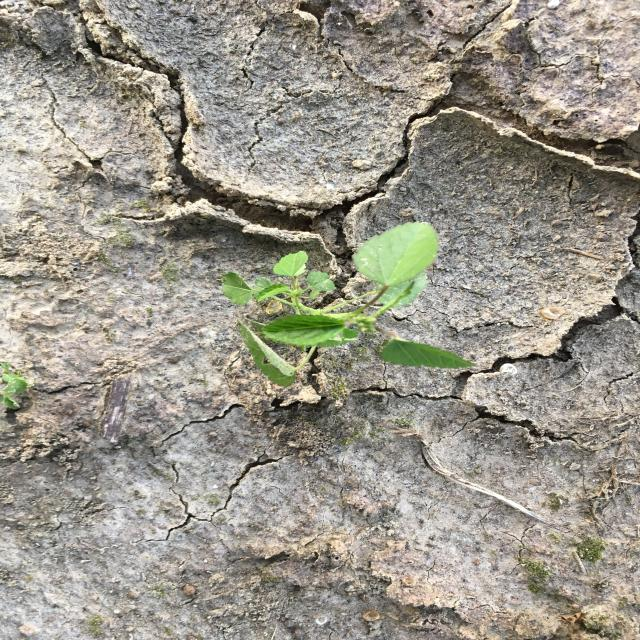PricklySida: (218, 219, 480, 390)
